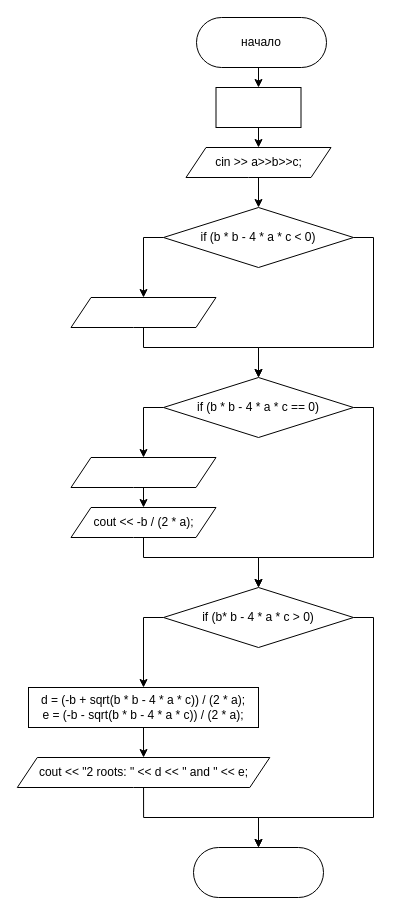
Image size: 400x915. Some labels were removed from this diagram. Each missing label, with the box of its shape:
cout << "1 root - ";: (70, 456, 216, 488)
cout << "No roots";: (70, 296, 216, 328)
int a,b,c,d,e;: (215, 86, 301, 128)
конец: (192, 846, 324, 898)
